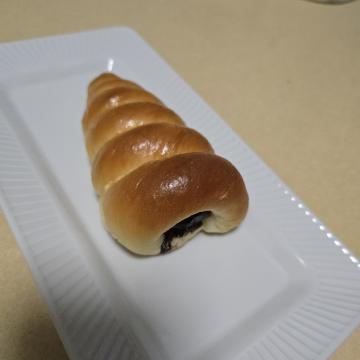cream horn: (56, 104, 277, 289)
